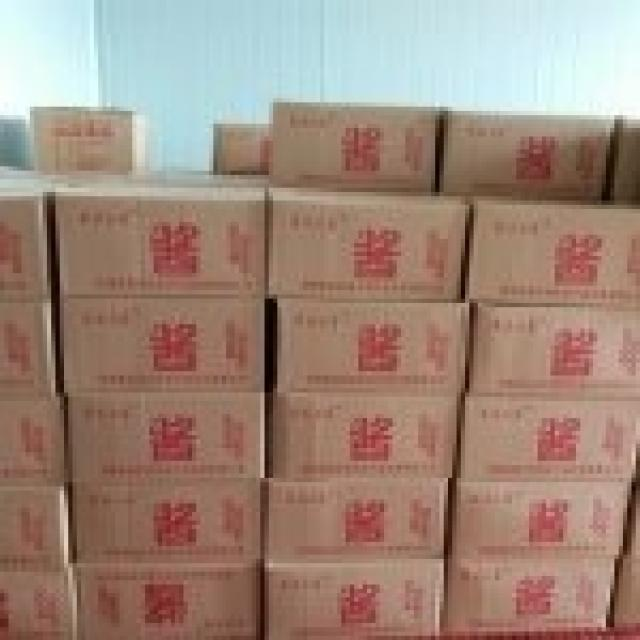box: (51, 175, 269, 294), (269, 188, 469, 303), (60, 294, 265, 397), (465, 196, 640, 303), (277, 299, 469, 393), (68, 393, 265, 482), (269, 393, 461, 478), (439, 111, 614, 201), (457, 393, 640, 478), (73, 482, 265, 563), (469, 307, 640, 397), (269, 102, 439, 192), (77, 559, 260, 640), (265, 559, 444, 640), (448, 478, 636, 555), (260, 482, 448, 559), (439, 559, 619, 631), (0, 175, 77, 299), (30, 107, 149, 171), (0, 486, 73, 563), (0, 567, 73, 640), (0, 401, 64, 482), (0, 303, 55, 397), (213, 124, 269, 175)
